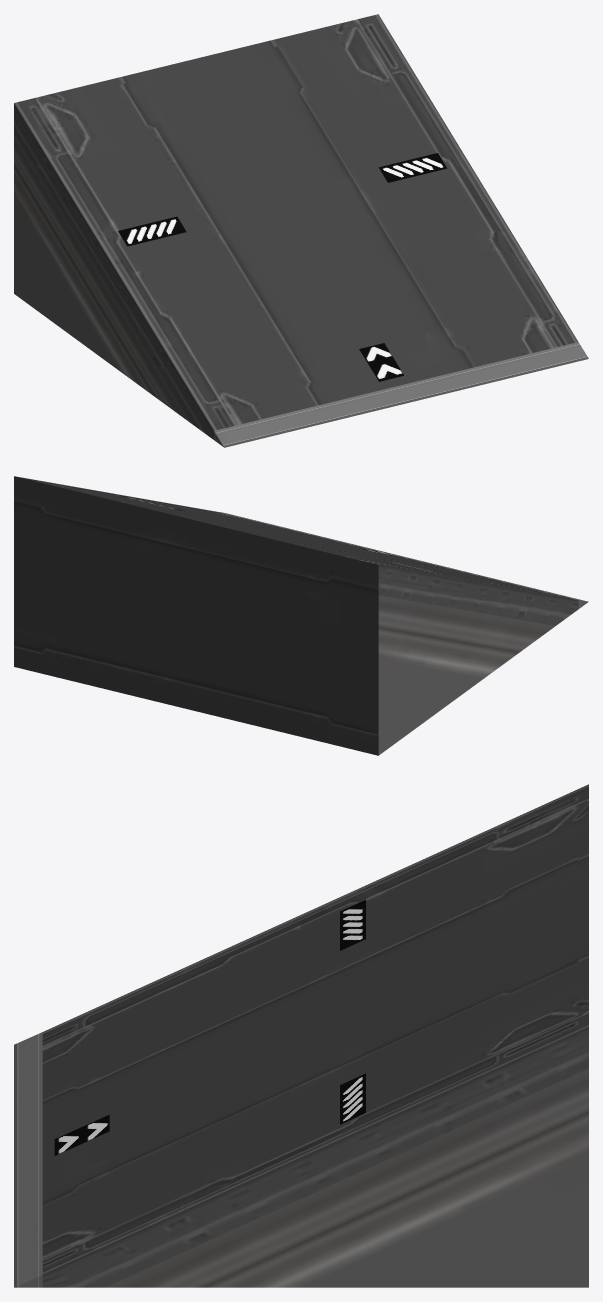
The model's file is Platform_Ramp_2.glb.
3 renders of one model, top to bottom at view 1: azimuth 30°, elevation 25°; view 2: azimuth 150°, elevation 25°; view 3: azimuth 270°, elevation 25°, orthographic. The views are drawn at different scales.
Visible parts, largest first — view 1: Platform_Ramp_2; view 2: Platform_Ramp_2; view 3: Platform_Ramp_2.
Boxes of the visible parts, x1,y1,x2,y2 form: Platform_Ramp_2: (14, 14, 588, 447); Platform_Ramp_2: (14, 476, 588, 755); Platform_Ramp_2: (14, 784, 588, 1287).
Size of the model in its own units: 2 by 1 by 2.
Materials: 3 (3 with a texture image).
